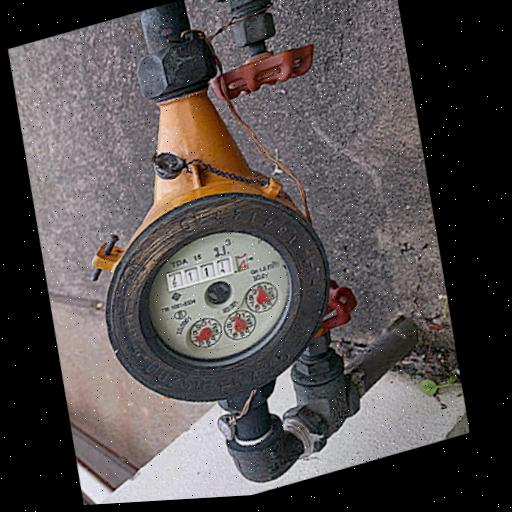1: (184, 267, 200, 284), (200, 263, 216, 280), (216, 258, 232, 275)
2: (168, 271, 184, 288)
4: (234, 253, 249, 271)
border_water_meter_number: (165, 251, 251, 293)
